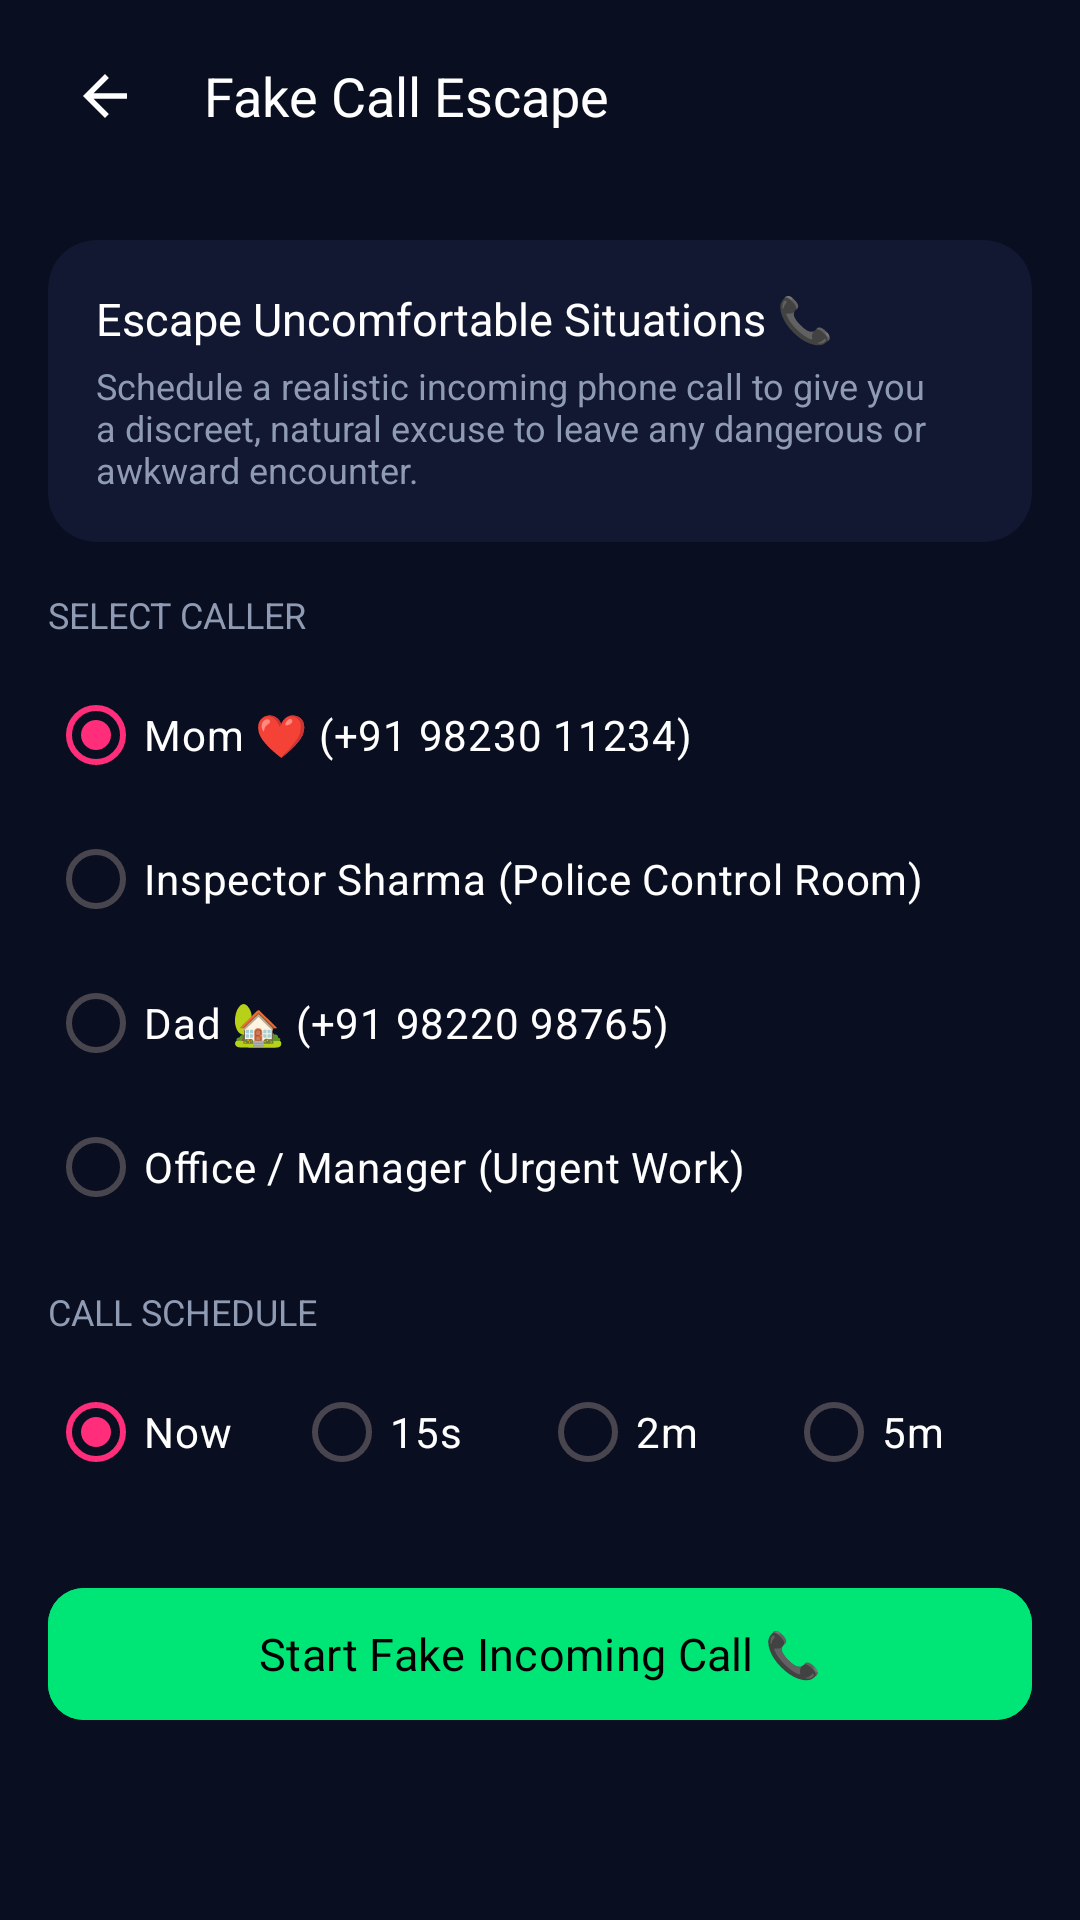

Where to tap for icons on this 1080x1920 app screen, as (x,y):
Back: (105,96)
